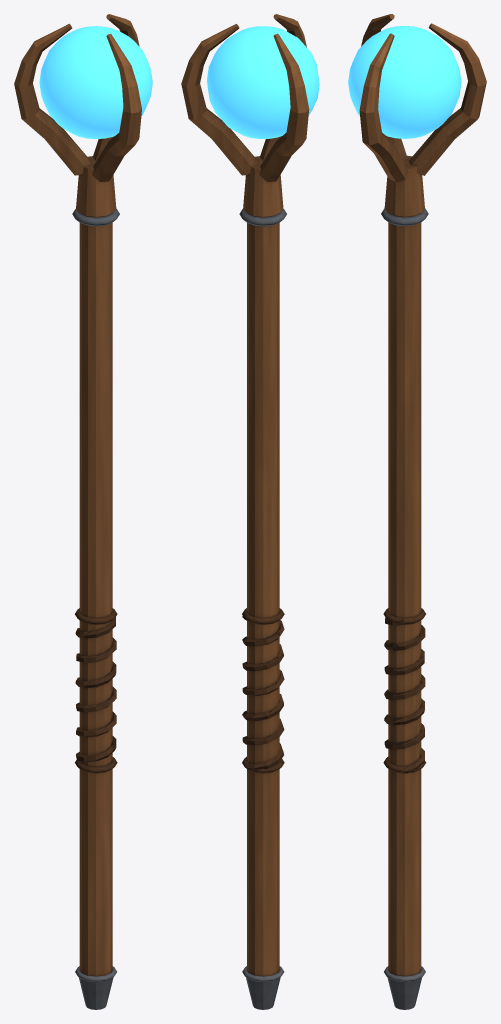
The model's file is 01_plains_magic.fbx.
3 views of the same model, side by side, from view 1: azimuth 90°, elevation 25°; view 2: azimuth 210°, elevation 25°; view 3: azimuth 270°, elevation 25° (orthographic).
Visible parts, largest first — view 1: Weapon; view 2: Weapon; view 3: Weapon.
Boxes of the visible parts, bbox=[...] form: Weapon: bbox=[14, 14, 152, 1009]; Weapon: bbox=[181, 14, 319, 1009]; Weapon: bbox=[348, 14, 486, 1009].
Size of the model in its own units: 22.43 by 168 by 21.53.
Materials: 2 (1 with a texture image).
